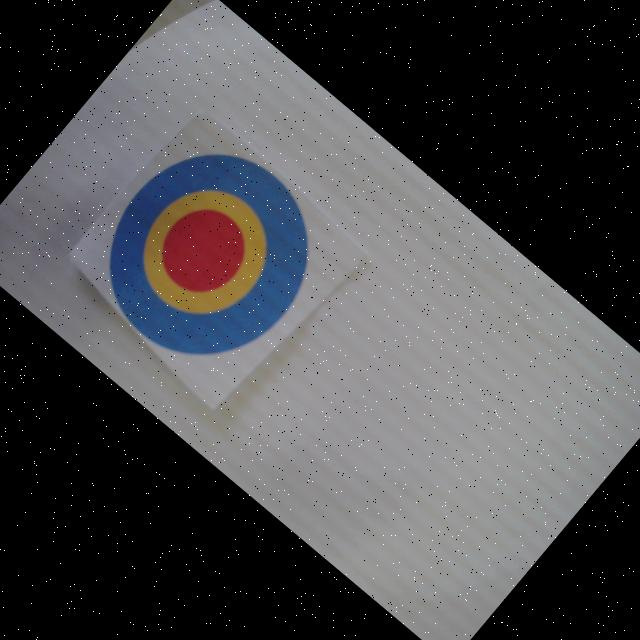COGNITIVE: (68, 115, 349, 398)
